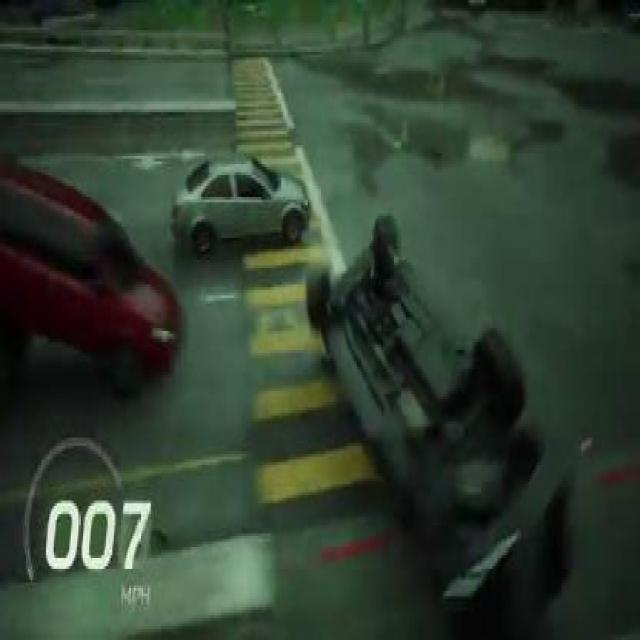accident: (300, 199, 574, 632)
